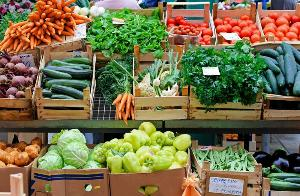bell_pepper: (97, 127, 193, 189)
carrot: (0, 0, 90, 54), (95, 62, 133, 118)
cucumber: (248, 42, 300, 104)
eggplant: (255, 141, 300, 173)
radish: (0, 53, 40, 103)
tomato: (166, 5, 212, 43), (214, 9, 264, 42), (260, 9, 300, 42)
zucchini: (35, 56, 95, 108), (262, 166, 300, 192)
